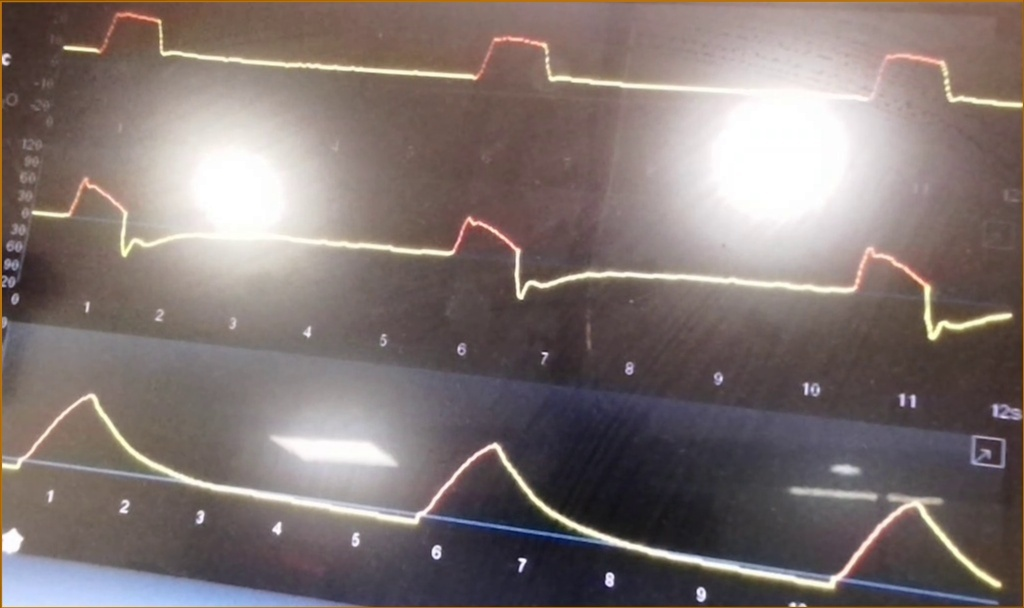Premature_cycling Flow: (31, 168, 1009, 339)
Premature_cycling Volume: (2, 385, 999, 596)
